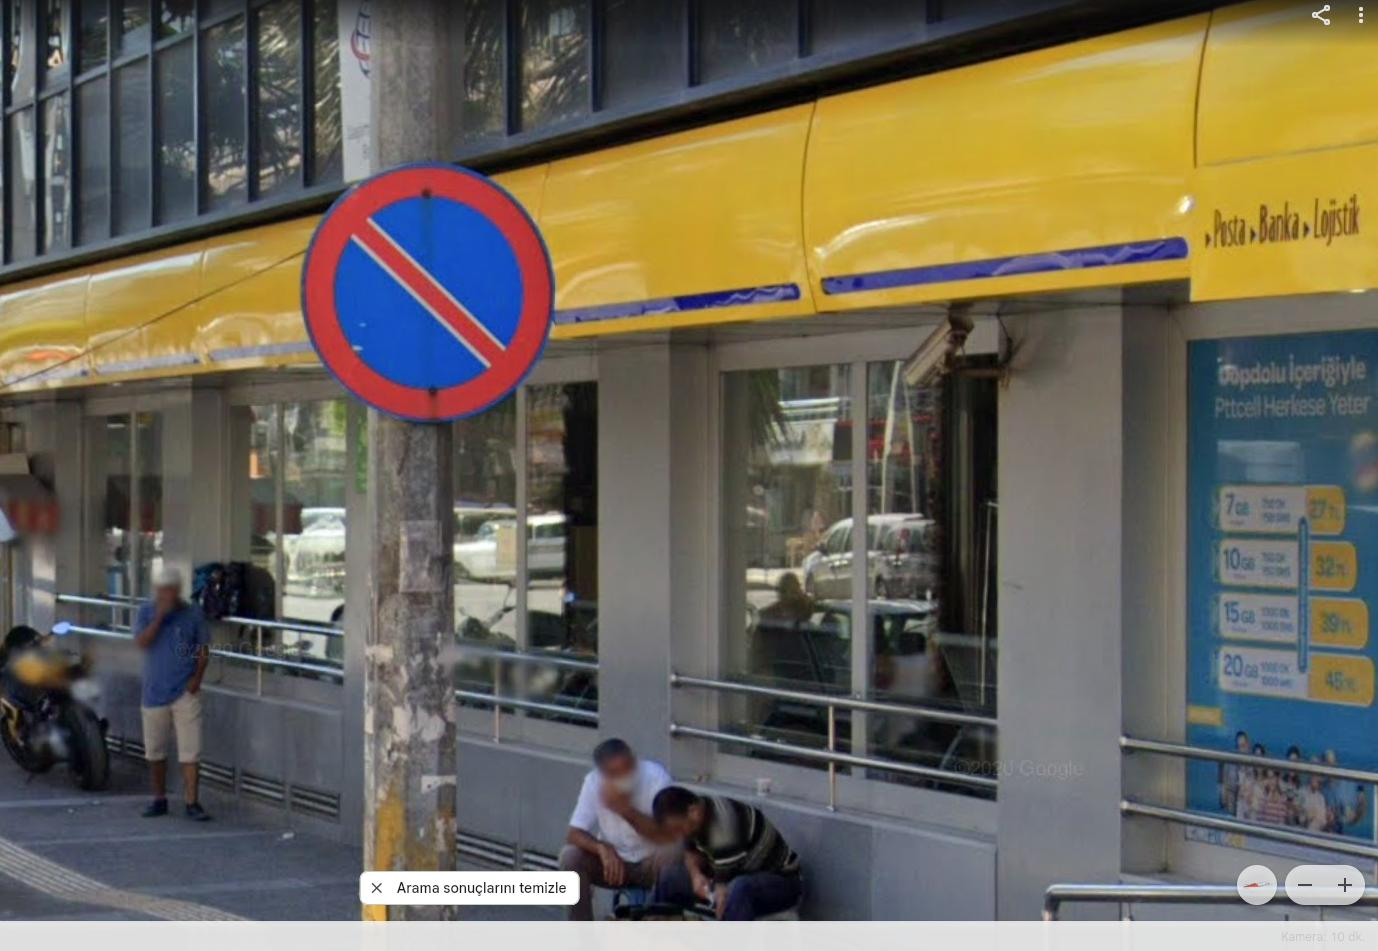nopark: (297, 169, 558, 415)
